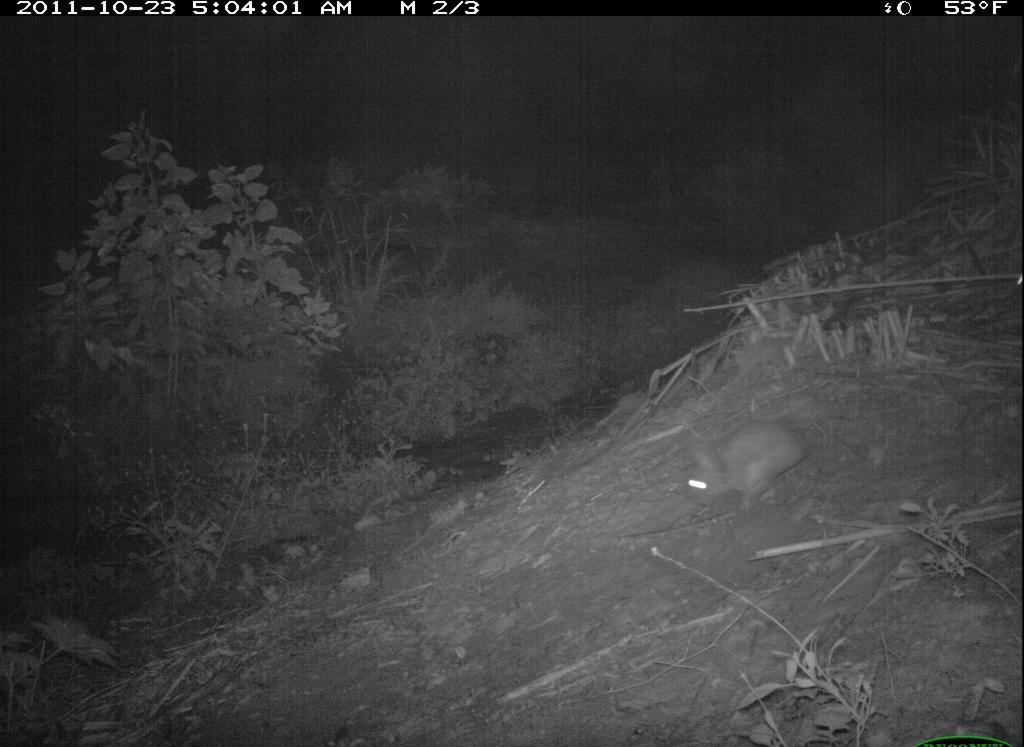rabbit: (661, 414, 822, 513)
